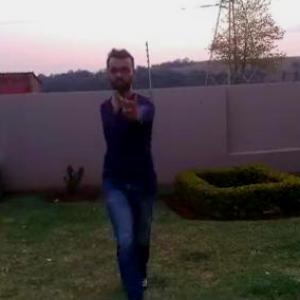takeoff-hand: (116, 84, 142, 120)
